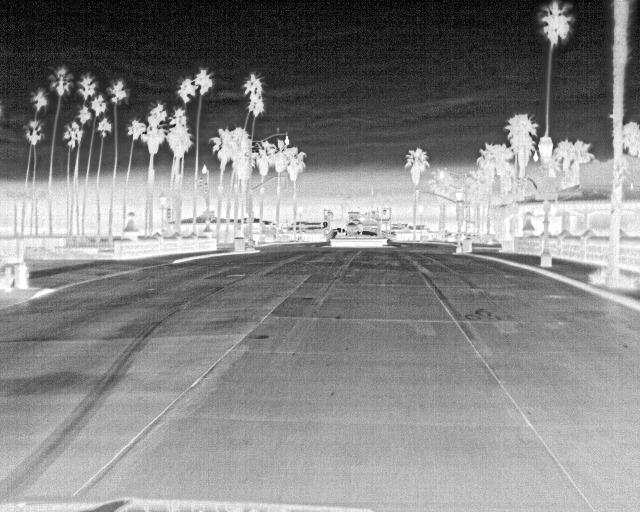car: (337, 229, 346, 235)
light: (280, 172, 289, 190), (457, 201, 464, 220), (248, 211, 254, 222), (198, 177, 203, 189), (414, 189, 419, 199), (211, 210, 215, 220), (168, 208, 171, 219), (205, 183, 208, 193)
sign: (536, 176, 556, 191), (534, 191, 557, 200), (397, 223, 402, 229), (323, 222, 328, 227)
